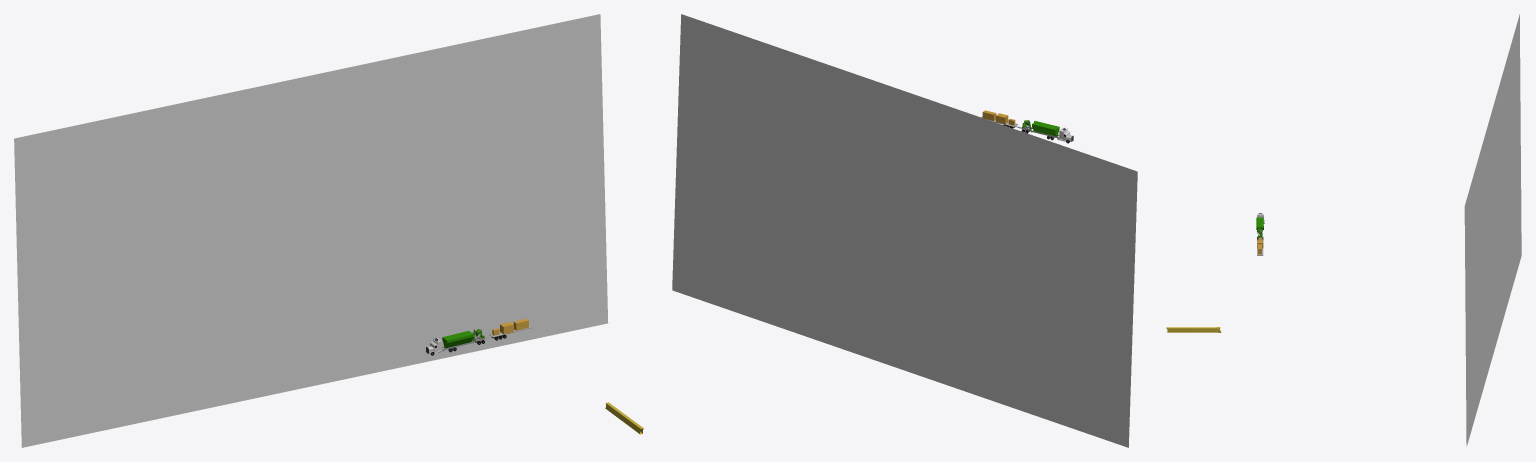
The model's file is DustCleaner.fbx.
3 views of the same model, side by side, from view 1: azimuth 30°, elevation 25°; view 2: azimuth 150°, elevation 25°; view 3: azimuth 270°, elevation 25° (orthographic). The views are drawn at different scales.
Parts seen in each view (by area): view 1: Plane.001, Cylinder.001; view 2: Plane.001, Cylinder.001; view 3: Plane.001.
Part boxes in pixels (left/top/right/bottom): Plane.001: left=14, top=14, right=608, bottom=447; Cylinder.001: left=426, top=318, right=532, bottom=355; Plane.001: left=672, top=14, right=1137, bottom=447; Cylinder.001: left=981, top=110, right=1073, bottom=143; Plane.001: left=1464, top=14, right=1521, bottom=446.
Bounding box in the file's own units: 2666 × 1500 × 1922.
